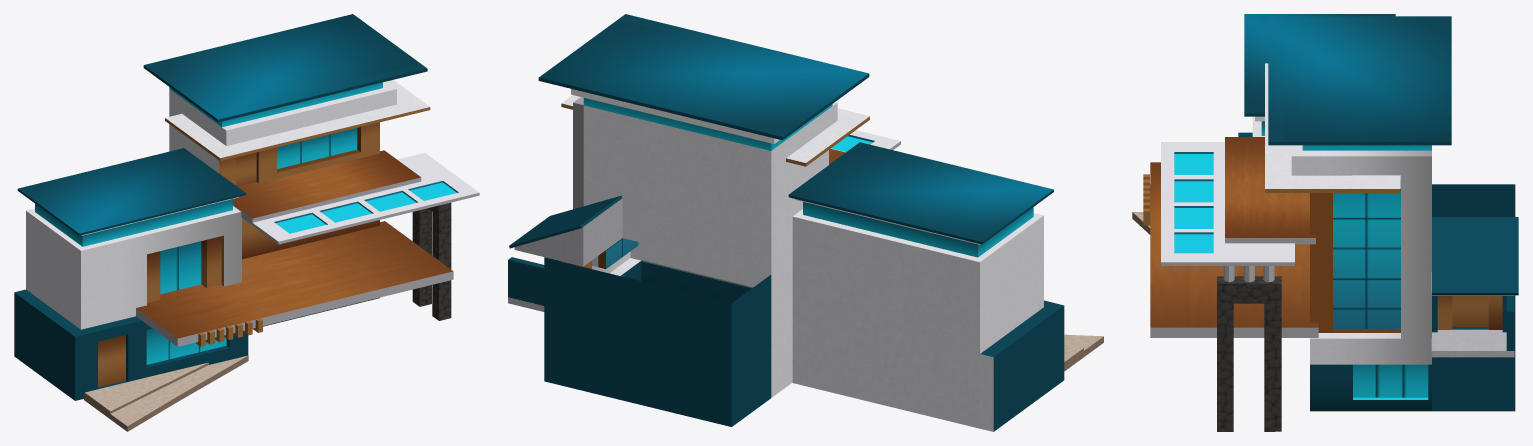
The model's file is Tx_Exterior_Property_BungalowT3.fbx.
3 renders of one model, left to right at view 1: azimuth 30°, elevation 25°; view 2: azimuth 150°, elevation 25°; view 3: azimuth 270°, elevation 25°, orthographic. The views are drawn at different scales.
Parts seen in each view (by area): view 1: polySurface6; view 2: polySurface6; view 3: polySurface6.
Part boxes in pixels (x1=…): polySurface6: x1=14, y1=14, x2=479, y2=431; polySurface6: x1=508, y1=14, x2=1103, y2=431; polySurface6: x1=1132, y1=14, x2=1518, y2=431.
Bounding box in the file's own units: 22.45 × 13.58 × 16.39.
